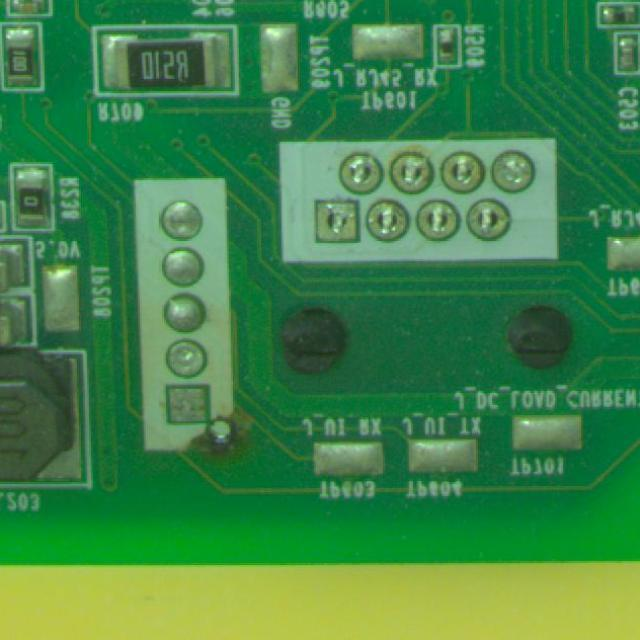Insufficient solder: (306, 198, 362, 246), (364, 197, 412, 246), (470, 195, 516, 244), (438, 150, 490, 192), (331, 150, 381, 192), (415, 200, 463, 240), (388, 147, 432, 190), (488, 150, 535, 190)
